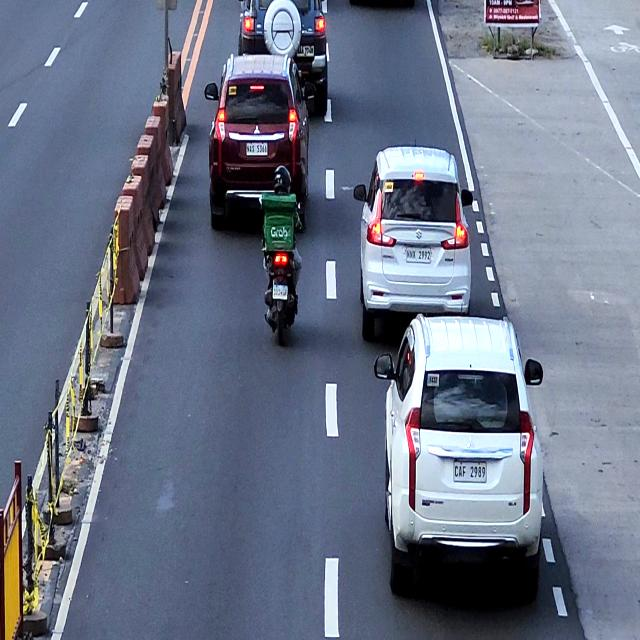Car: (374, 314, 544, 598), (353, 143, 473, 341), (204, 52, 310, 228), (237, 0, 331, 125)
License-Plate: (452, 460, 488, 484), (404, 246, 432, 266), (246, 141, 268, 156), (272, 283, 288, 301), (295, 45, 315, 57)
Motorcycle: (261, 236, 302, 346)
